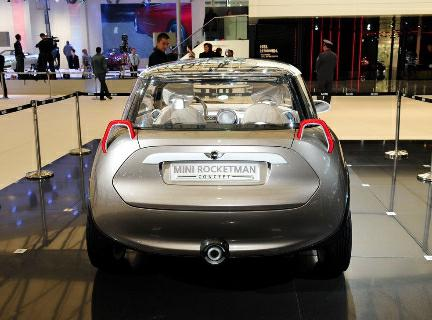MINI-ROCKETMAN: (83, 58, 356, 285)
